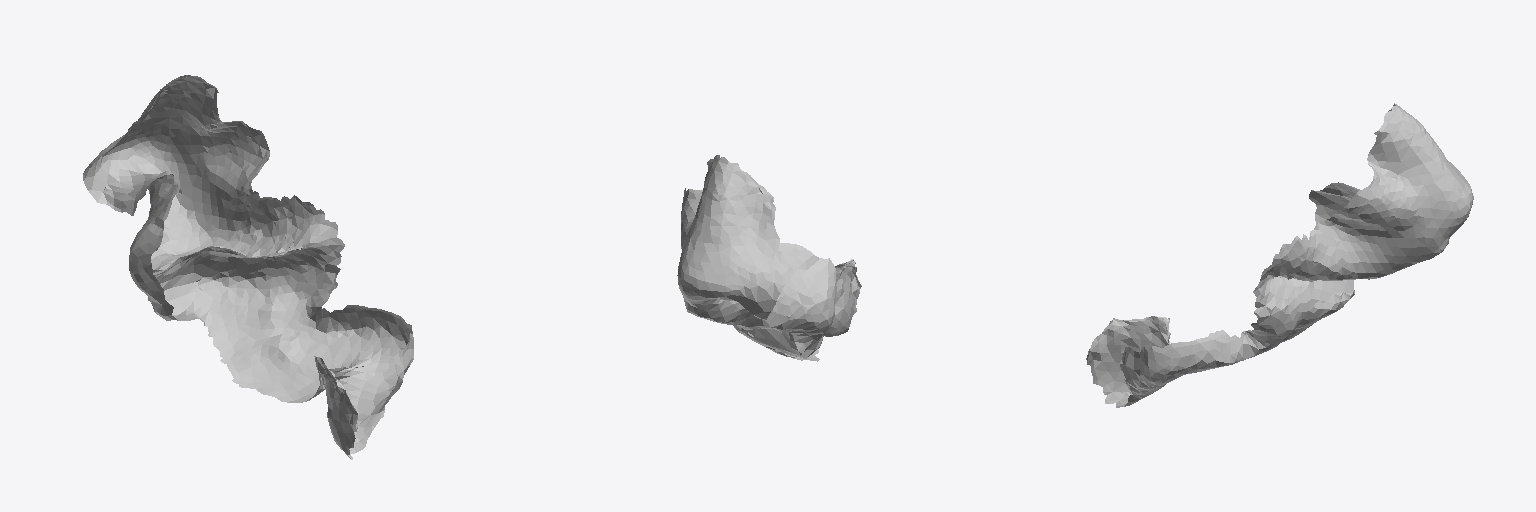
File: L_occipital_superior.obj
3 renders of one model, left to right at view 1: azimuth 30°, elevation 25°; view 2: azimuth 150°, elevation 25°; view 3: azimuth 270°, elevation 25°, orthographic.
Visible parts, largest first — view 1: L_occipital_superior_R_occipital_superior; view 2: L_occipital_superior_R_occipital_superior; view 3: L_occipital_superior_R_occipital_superior.
Part boxes in pixels (x1,y1,x2,y2): L_occipital_superior_R_occipital_superior: (83, 75, 413, 459); L_occipital_superior_R_occipital_superior: (677, 155, 861, 361); L_occipital_superior_R_occipital_superior: (1086, 103, 1473, 407).
Size of the model in its own units: 89.23 by 128 by 158.